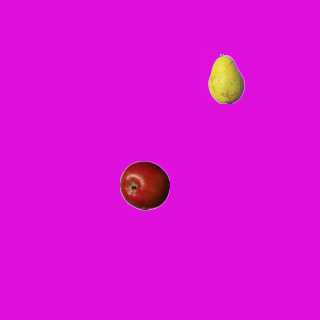Apple Braeburn: (119, 160, 169, 210)
Pear Monster: (201, 53, 251, 103)
